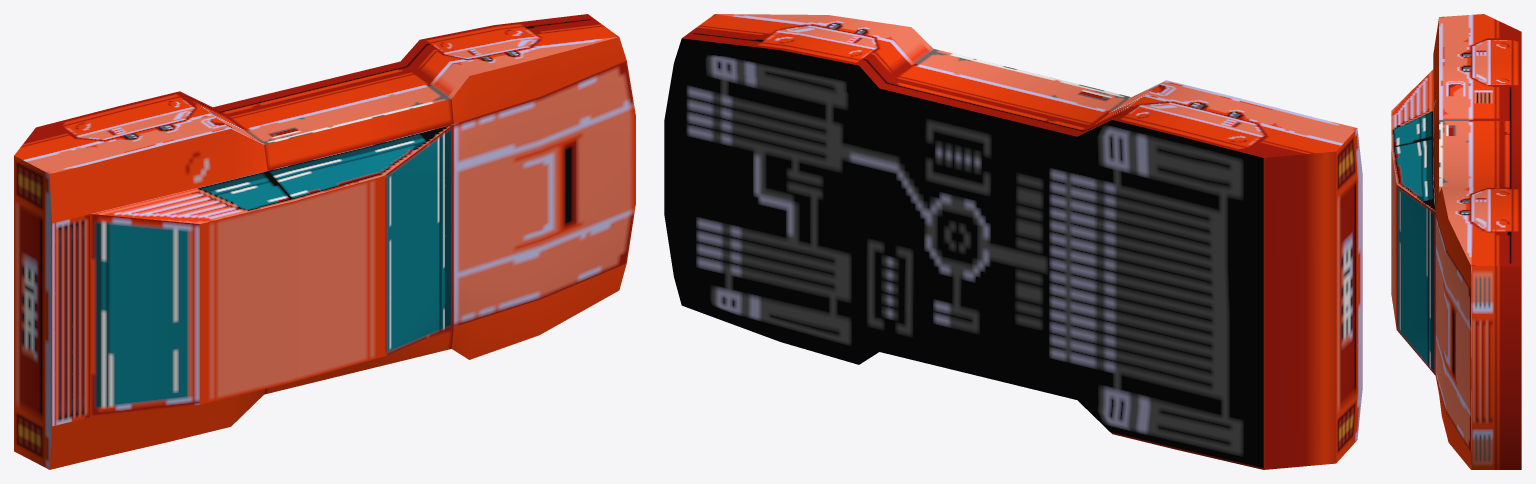
The model's file is coupe.obj.
The picture shows the model from 3 angles, left to right: view 1: azimuth 30°, elevation 25°; view 2: azimuth 150°, elevation 25°; view 3: azimuth 270°, elevation 25°; orthographic projection. The views are drawn at different scales.
Visible parts, largest first — view 1: coupe; view 2: coupe; view 3: coupe.
Boxes of the visible parts, x1,y1,x2,y2 form: coupe: (14, 14, 635, 469); coupe: (664, 14, 1362, 469); coupe: (1391, 14, 1521, 469).
Size of the model in its own units: 62.37 by 28.94 by 14.27.
